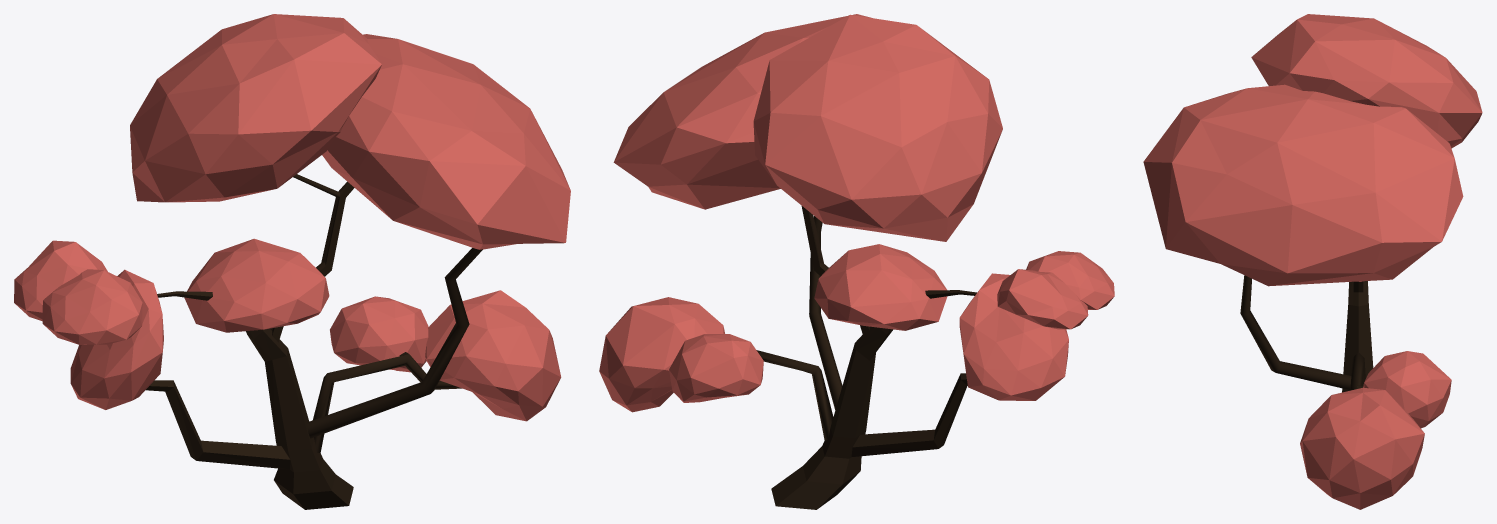
Rendered from cherryblossom 1.fbx.
3 views of the same model, side by side, from view 1: azimuth 30°, elevation 25°; view 2: azimuth 150°, elevation 25°; view 3: azimuth 270°, elevation 25° (orthographic). The views are drawn at different scales.
Parts seen in each view (by area): view 1: Cylinder001; view 2: Cylinder001; view 3: Cylinder001.
Boxes of the visible parts, x1,y1,x2,y2 form: Cylinder001: [14, 14, 570, 509]; Cylinder001: [599, 14, 1114, 509]; Cylinder001: [1143, 14, 1482, 509].
Size of the model in its own units: 476 by 433 by 317.
